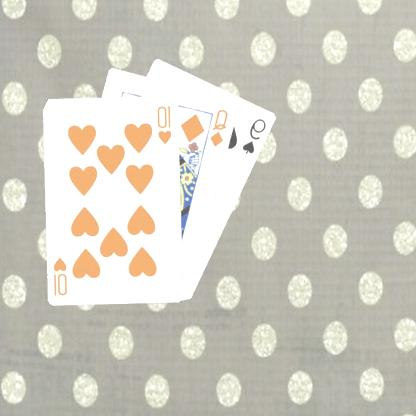10H: (52, 254, 71, 297), (157, 102, 175, 146)
9S: (242, 116, 270, 156)
QD: (209, 106, 232, 148)
